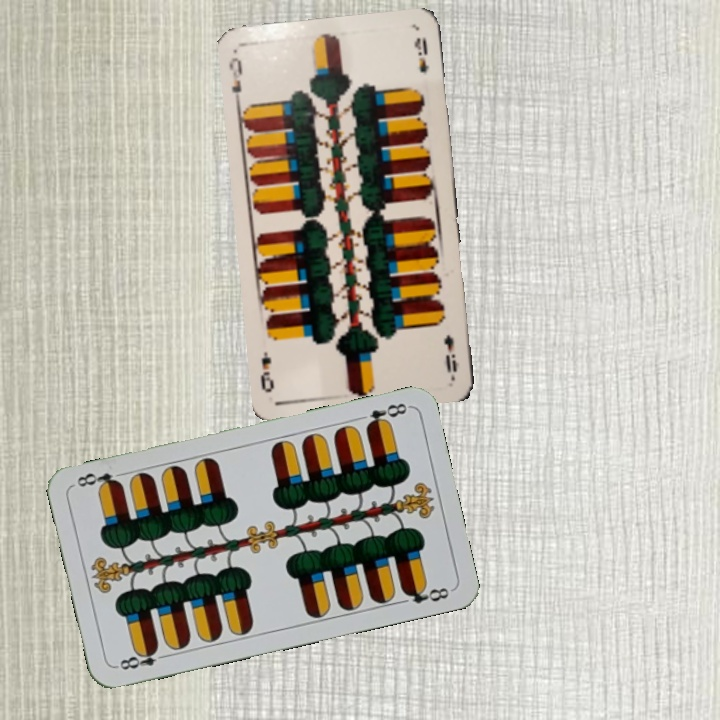E8: (112, 643, 171, 673), (361, 399, 411, 432)
E9: (225, 53, 245, 108), (440, 330, 460, 378)
